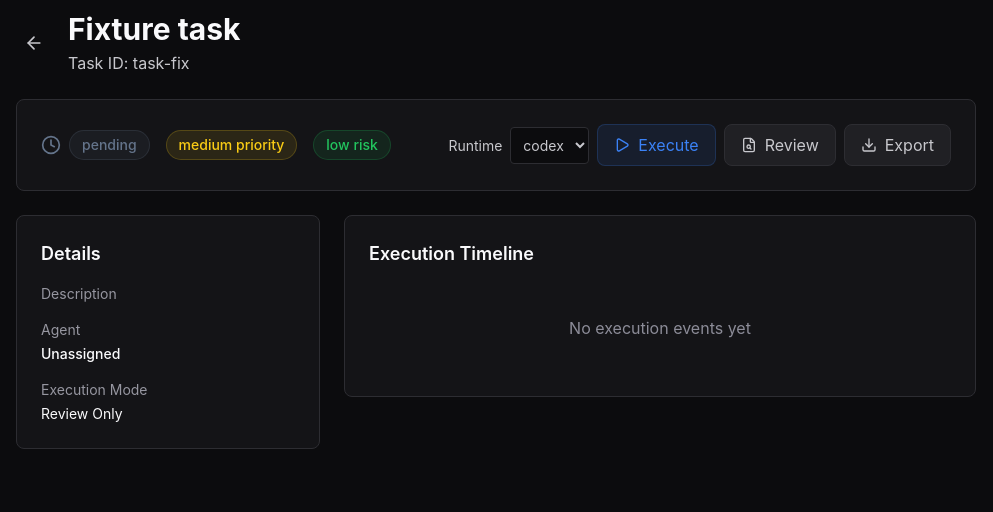
Test: UXE-09: a failed task execution shows an inline notice, not a native alert
This screenshot has width=993, height=512.
Click the button "Execute".
click(656, 145)  # box [597, 124, 716, 166]
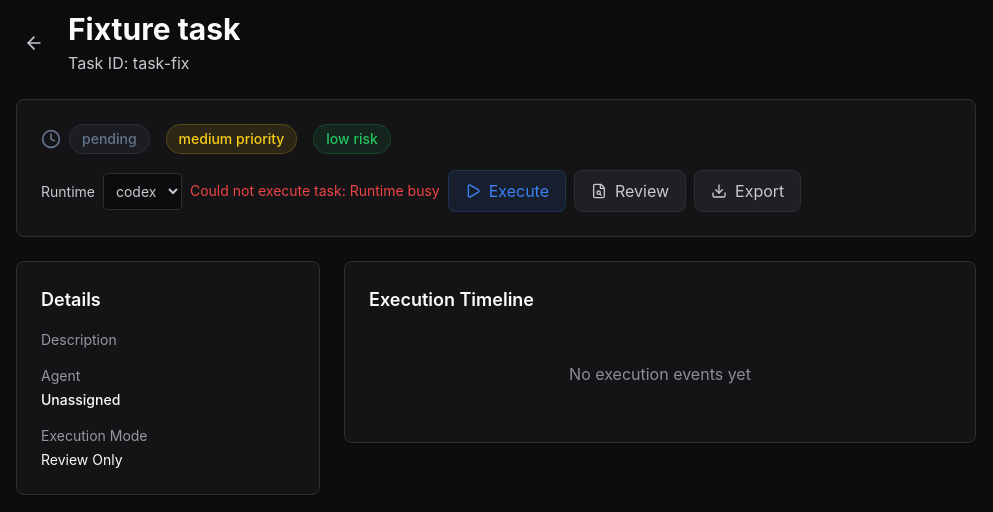
Now the message reads "Could not execute task: Runtime busy", box [190, 182, 440, 199]
